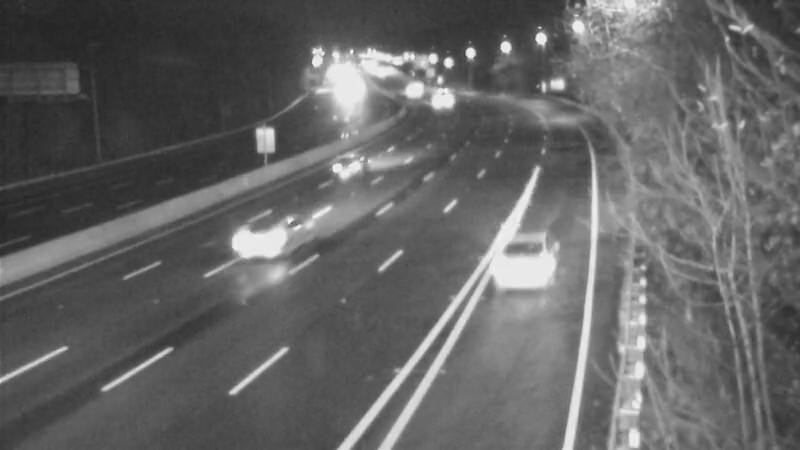vehicle: (309, 125, 389, 205), (217, 205, 297, 285), (484, 227, 564, 307), (419, 65, 469, 115), (386, 66, 436, 116), (415, 77, 465, 127)
